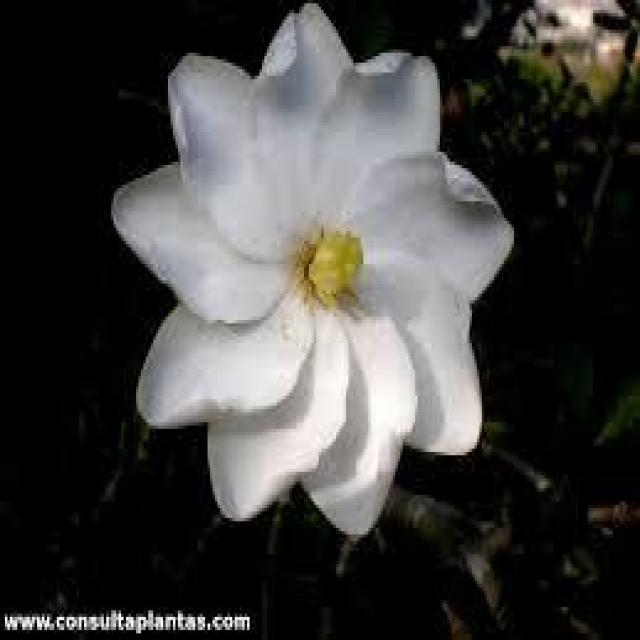organic waste: (94, 8, 519, 526)
